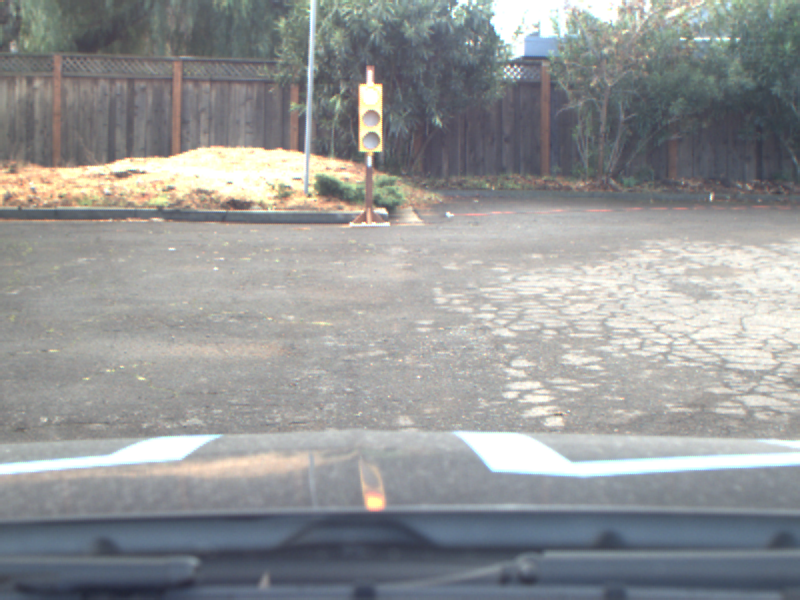Red: (358, 84, 383, 153)
